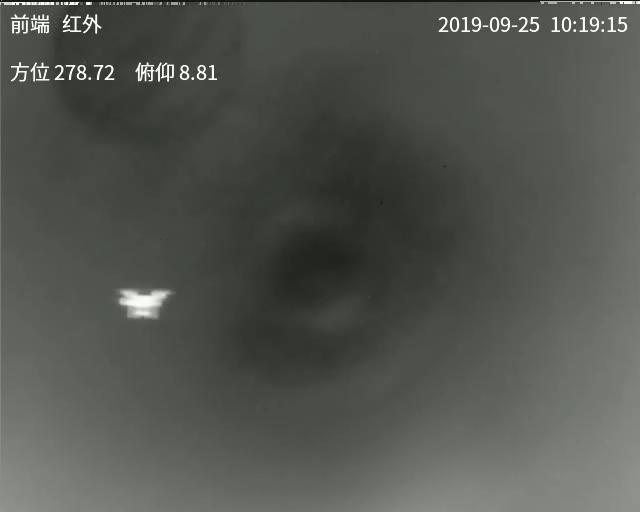uav: (110, 284, 174, 322)
